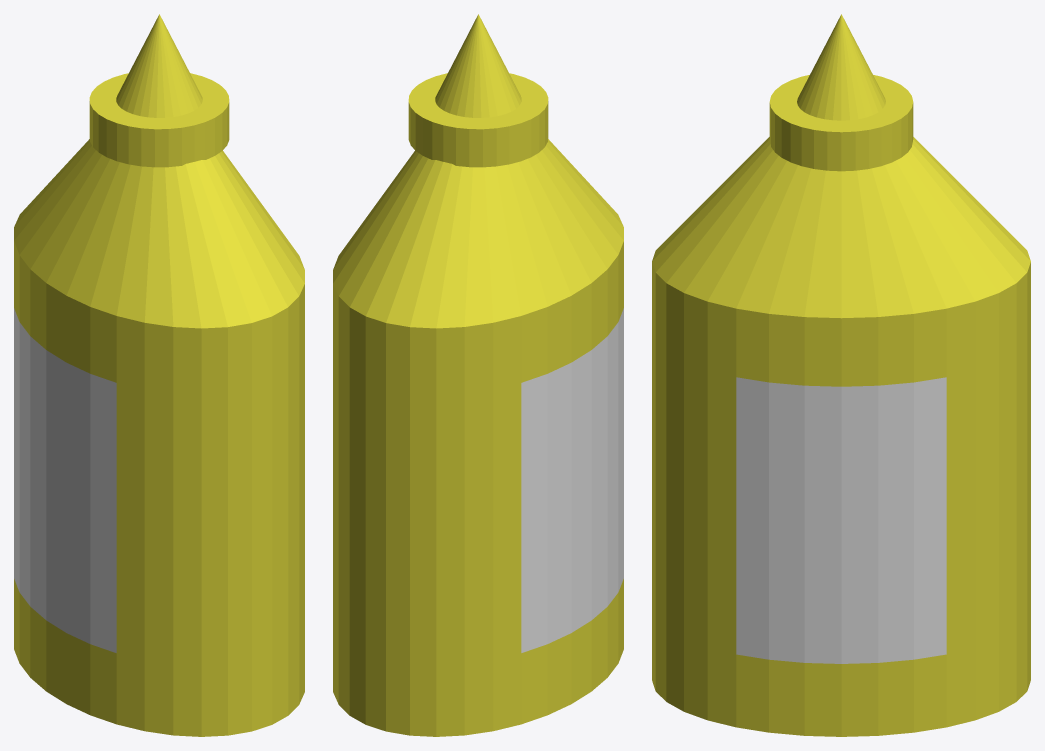
Rendered from MustardV1.fbx.
3 renders of one model, left to right at view 1: azimuth 30°, elevation 25°; view 2: azimuth 150°, elevation 25°; view 3: azimuth 270°, elevation 25°, orthographic. The views are drawn at different scales.
Parts seen in each view (by area): view 1: Cylinder.001; view 2: Cylinder.001; view 3: Cylinder.001.
Part boxes in pixels (x1=…): Cylinder.001: x1=14, y1=14, x2=304, y2=736; Cylinder.001: x1=333, y1=14, x2=623, y2=736; Cylinder.001: x1=652, y1=14, x2=1030, y2=736.
Bounding box in the file's own units: 93.68 × 66.27 × 182.
